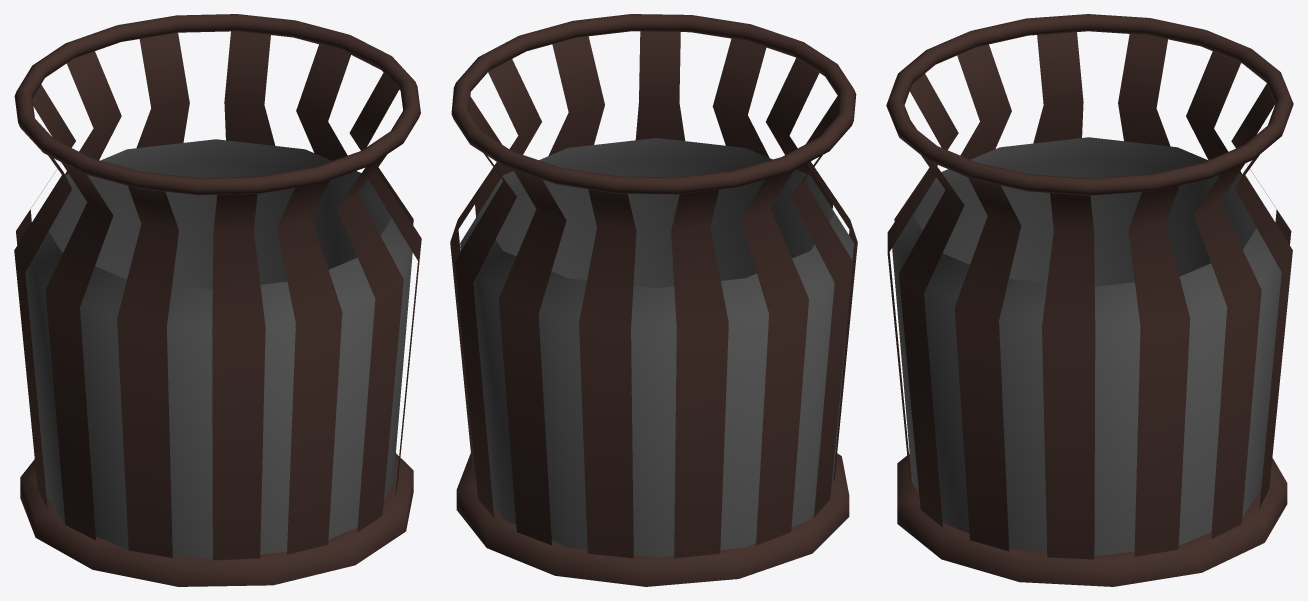
Rendered from TrashCan.fbx.
3 renders of one model, left to right at view 1: azimuth 30°, elevation 25°; view 2: azimuth 150°, elevation 25°; view 3: azimuth 270°, elevation 25°, orthographic.
Visible parts, largest first — view 1: TrashCan; view 2: TrashCan; view 3: TrashCan.
Boxes of the visible parts, bbox=[...] form: TrashCan: bbox=[14, 14, 421, 586]; TrashCan: bbox=[450, 14, 857, 586]; TrashCan: bbox=[886, 14, 1293, 586].
Size of the model in its own units: 0.816 by 0.816 by 0.8993.
